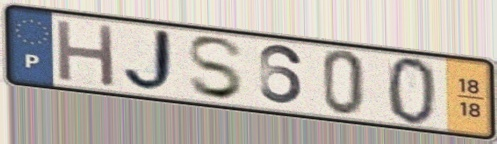0: (385, 55, 439, 127), (319, 49, 372, 120)
6: (256, 42, 307, 110)
H: (53, 17, 118, 90)
J: (121, 27, 182, 94)
S: (184, 34, 248, 102)
